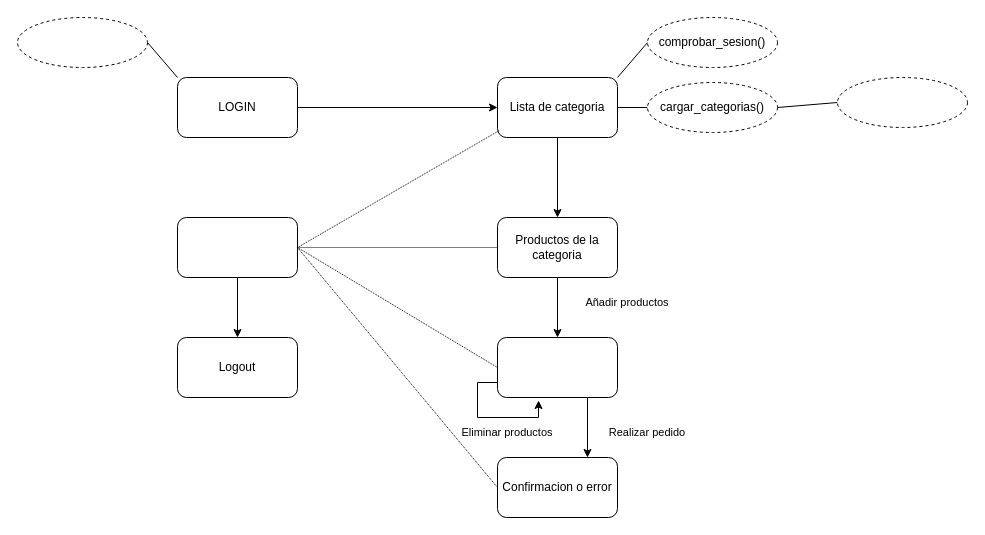
Some shapes in this 985 by 535 pixel diagram are drawn without their labels. The shapes that lost their labels are listed below. From the top down, each one's box as (x1, y1, x2, y2) in pixels, then its label:
(16, 16, 148, 68): comprobar_usuario()
(836, 76, 968, 128): leer_config()
(176, 216, 298, 278): Cabecera
(496, 336, 618, 398): Ver carrito
